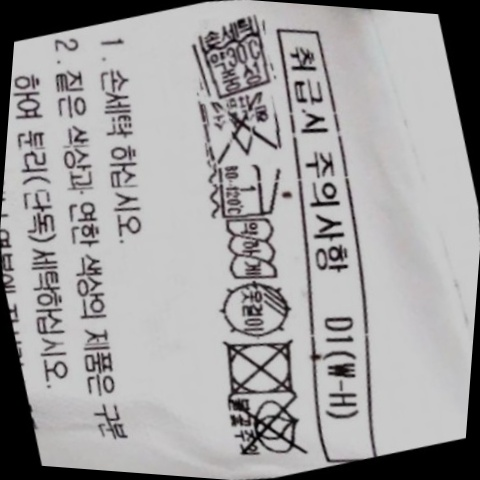DN_tumble_dry: (204, 320, 312, 414)
hand_wash: (182, 8, 286, 107)
iron_low: (202, 148, 291, 232)
line_dry_in_shade: (206, 267, 306, 352)
wring: (211, 207, 290, 293)
